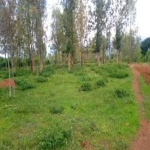Uncultivated: (1, 59, 138, 148)
